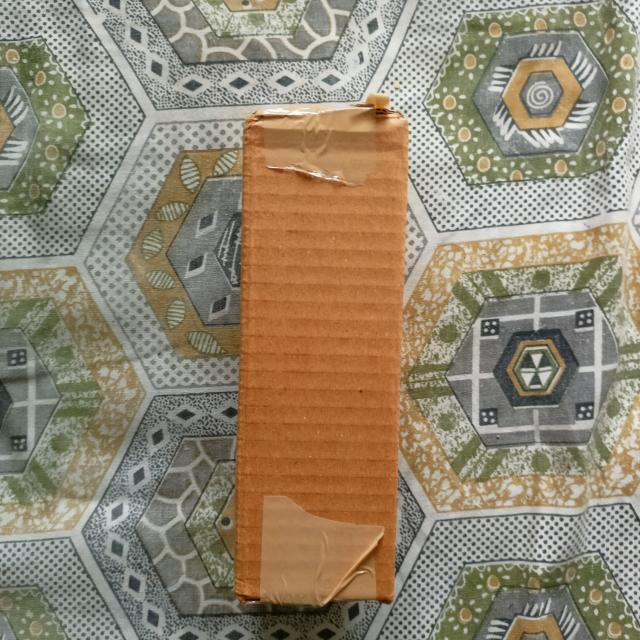box: (231, 95, 411, 615)
